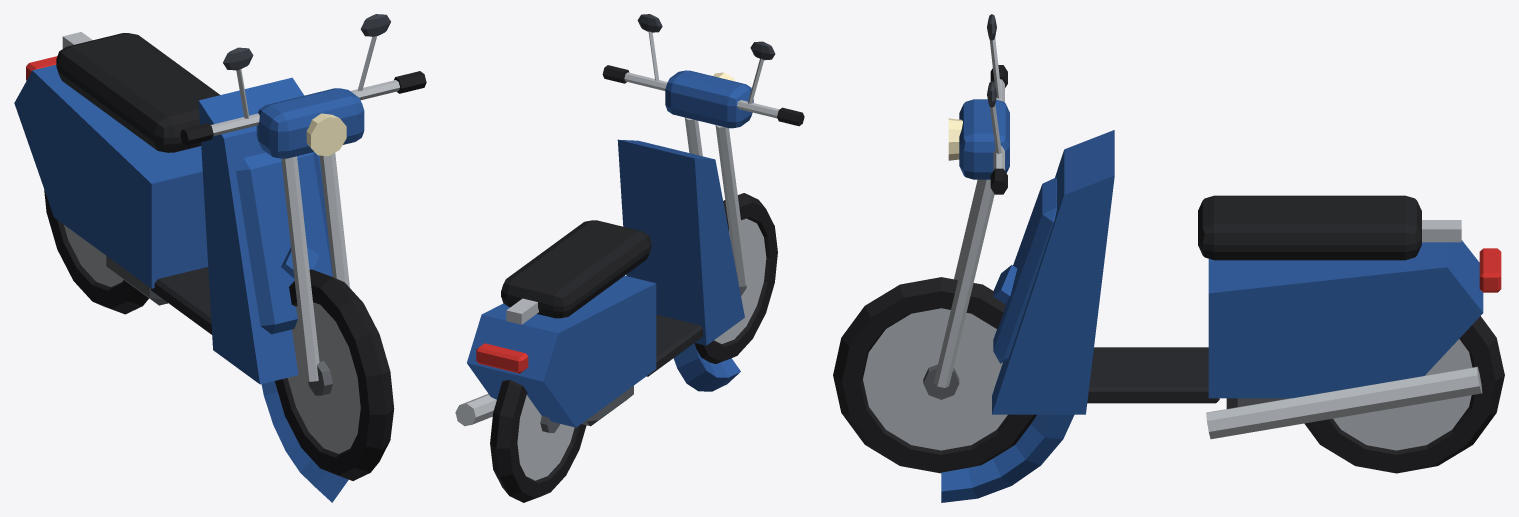
Rendered from VEH_Motorbike_Blue.fbx.
3 views of the same model, side by side, from view 1: azimuth 30°, elevation 25°; view 2: azimuth 150°, elevation 25°; view 3: azimuth 270°, elevation 25° (orthographic). The views are drawn at different scales.
Visible parts, largest first — view 1: VEH_Motorbike_Blue; view 2: VEH_Motorbike_Blue; view 3: VEH_Motorbike_Blue.
Boxes of the visible parts, x1,y1,x2,y2 form: VEH_Motorbike_Blue: [14, 14, 426, 502]; VEH_Motorbike_Blue: [455, 14, 804, 502]; VEH_Motorbike_Blue: [833, 14, 1504, 502].
Bounding box in the file's own units: 0.76 × 1.38 × 1.86.
